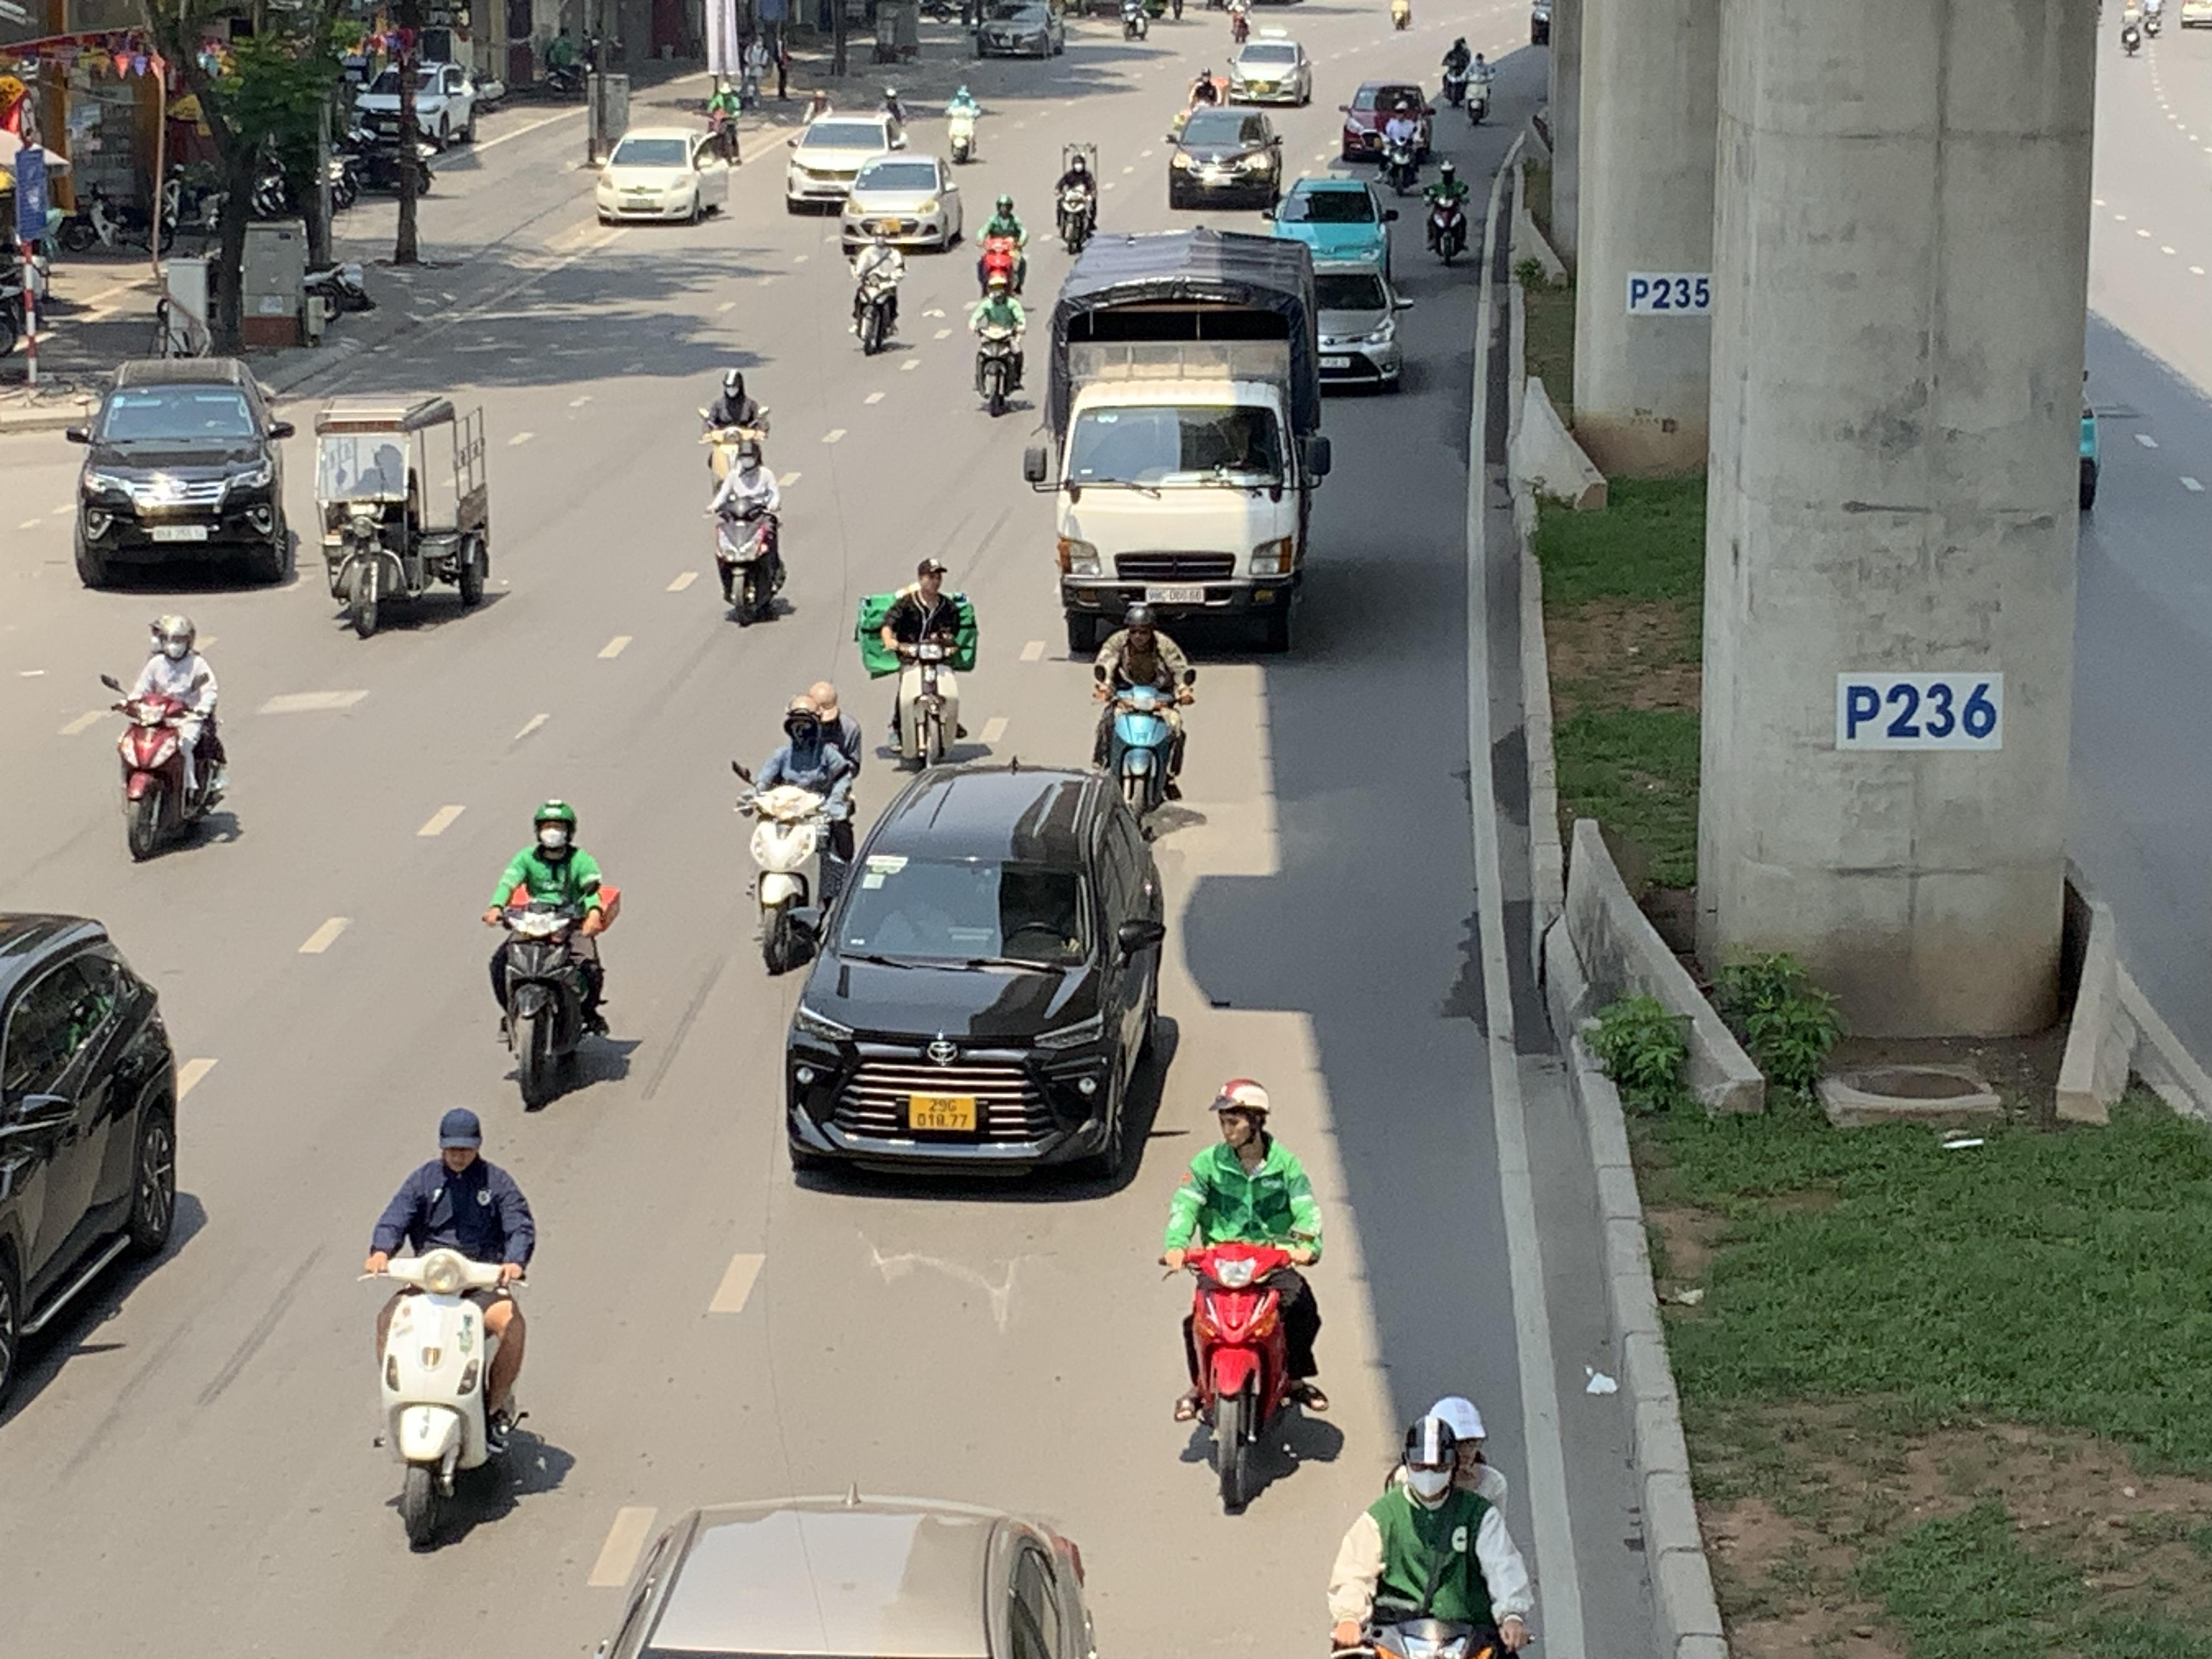BSD: (1146, 586, 1205, 603), (150, 525, 209, 540)
BSV: (909, 1096, 975, 1131)
car: (780, 756, 1179, 1188), (0, 906, 185, 1420), (550, 1493, 1120, 1659), (66, 356, 300, 589), (1266, 173, 1400, 281), (1310, 260, 1416, 394), (596, 127, 732, 227), (1165, 105, 1285, 211), (840, 153, 965, 254), (784, 112, 906, 213), (1336, 78, 1433, 160), (1226, 35, 1315, 106), (974, 0, 1066, 61)
motorbike: (364, 1107, 535, 1554), (1160, 1077, 1331, 1516), (1327, 1394, 1540, 1659), (484, 800, 617, 1112), (733, 690, 860, 974), (106, 615, 230, 863), (1090, 601, 1195, 833), (871, 556, 977, 772), (712, 436, 792, 627), (700, 368, 772, 488), (968, 274, 1028, 418), (848, 223, 906, 354), (975, 195, 1031, 301), (1052, 143, 1101, 254), (1423, 159, 1472, 267), (1378, 101, 1423, 193), (702, 78, 744, 164), (944, 82, 982, 164), (1463, 45, 1496, 127), (1439, 33, 1474, 110), (1224, 0, 1256, 47), (2120, 0, 2146, 56), (1120, 0, 1150, 42)
truck: (1022, 228, 1332, 653), (314, 389, 493, 638)
